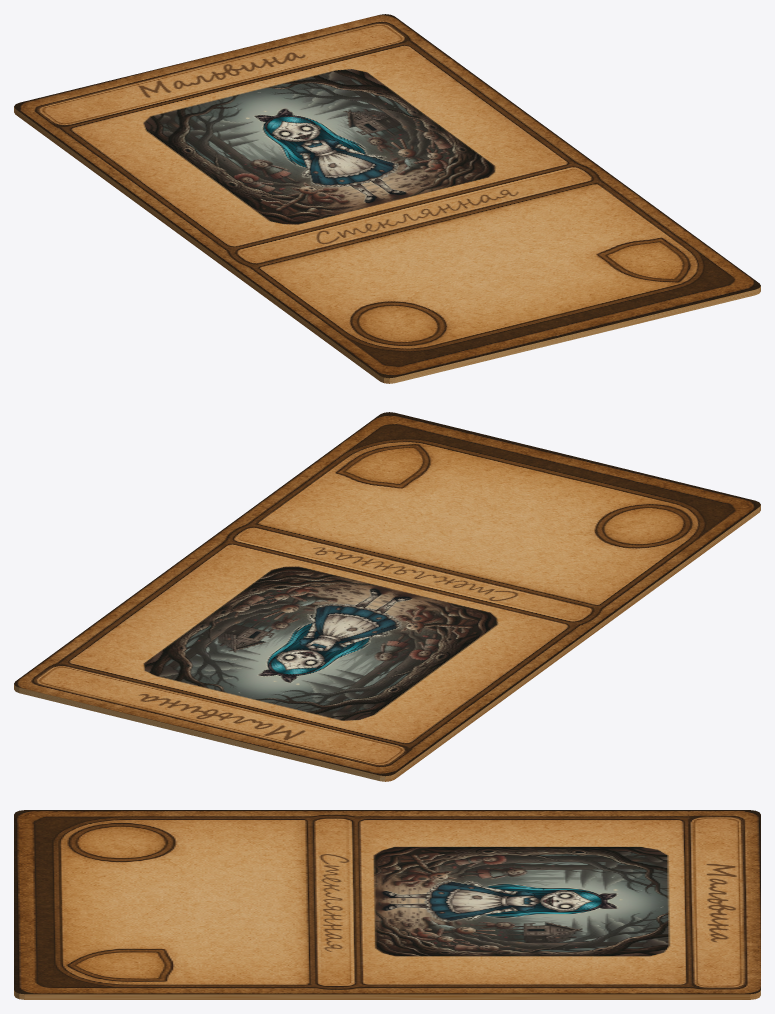
File: Карта мальвина.fbx
The picture shows the model from 3 angles, top to bottom: view 1: azimuth 30°, elevation 25°; view 2: azimuth 150°, elevation 25°; view 3: azimuth 270°, elevation 25°; orthographic projection.
Parts seen in each view (by area): view 1: Cube; view 2: Cube; view 3: Cube.
Boxes of the visible parts, <box> form: Cube: <box>14,14,760,383</box>; Cube: <box>14,412,760,781</box>; Cube: <box>14,810,760,999</box>.
Bounding box in the file's own units: 7 × 0.1 × 12.
1 material, 1 textured.
